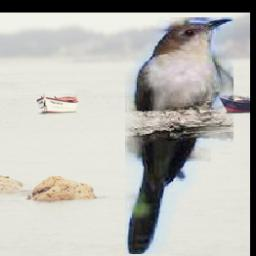Cuckoo: (126, 17, 235, 254)
